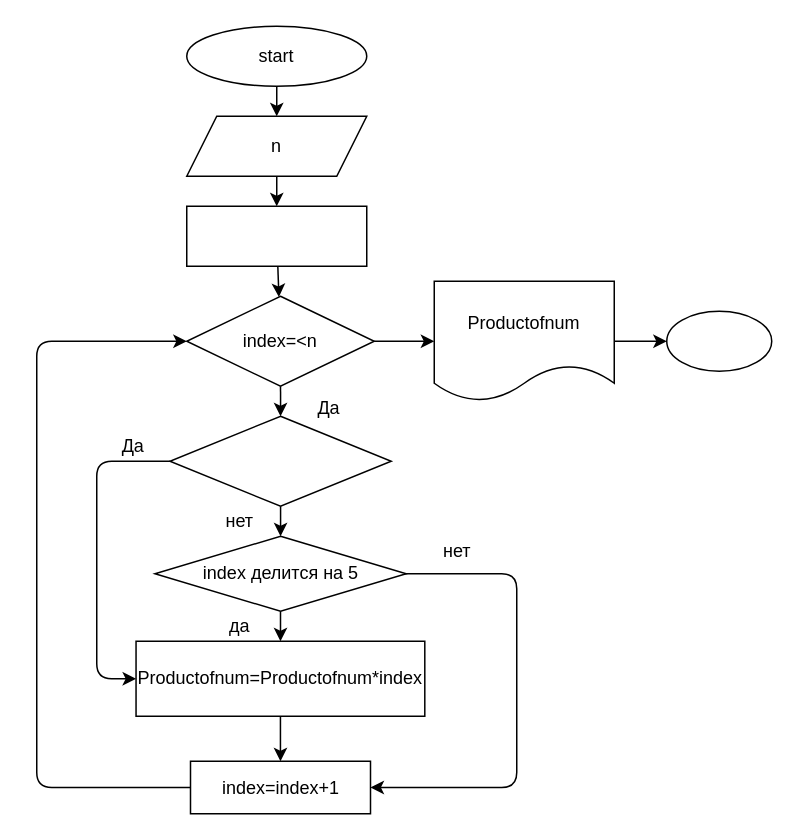
Some shapes in this 798 by 840 pixel diagram are drawn without their labels. Here are the shapes that lost their labels. From the top down, the box of each, then its label:
(185, 205, 367, 266): index=1 Productofnum=1
(665, 310, 772, 371): end
(168, 415, 391, 506): index делится на 3
